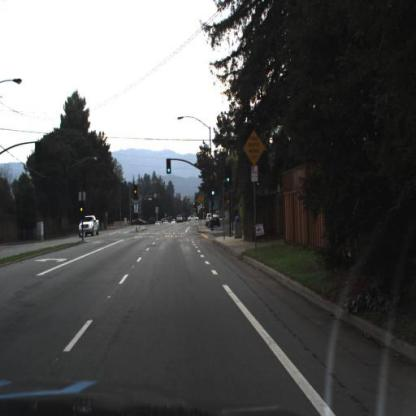car: (79, 217, 101, 235)
trafficLight-Green: (226, 168, 233, 186), (168, 159, 173, 174), (211, 184, 216, 197)
trafficLight-Yellow: (80, 204, 85, 220)
trafficLight-YellowLeft: (134, 186, 139, 198)
